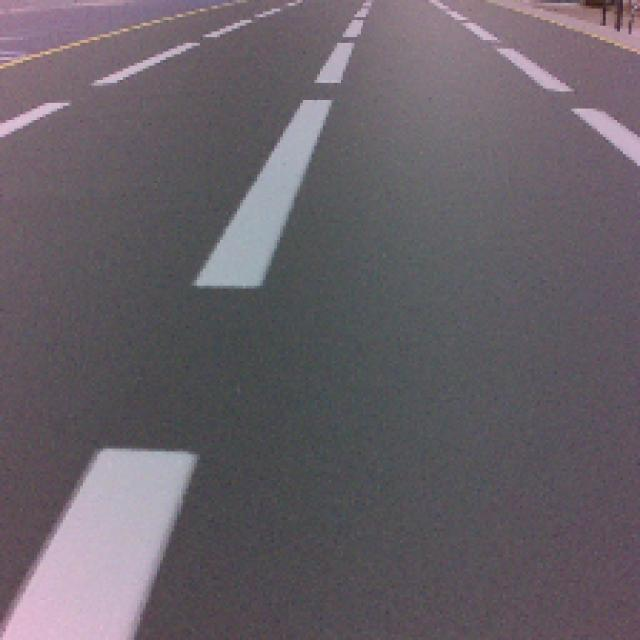Road: (129, 449, 640, 640)
